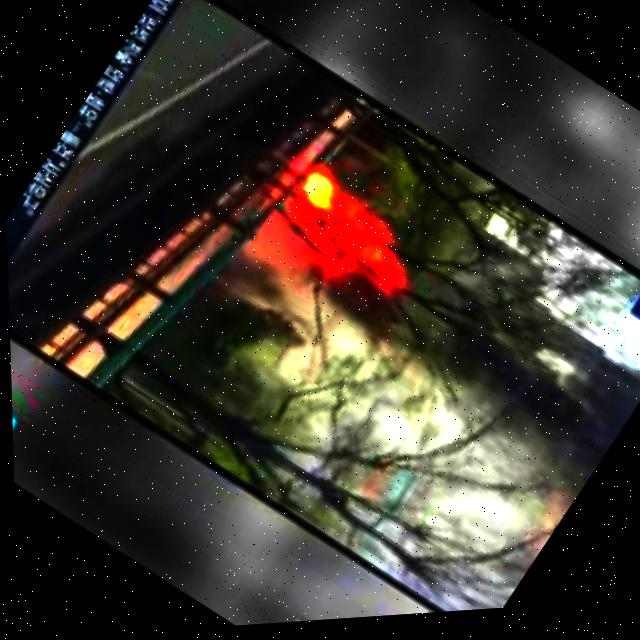Fire: (264, 165, 412, 310)
